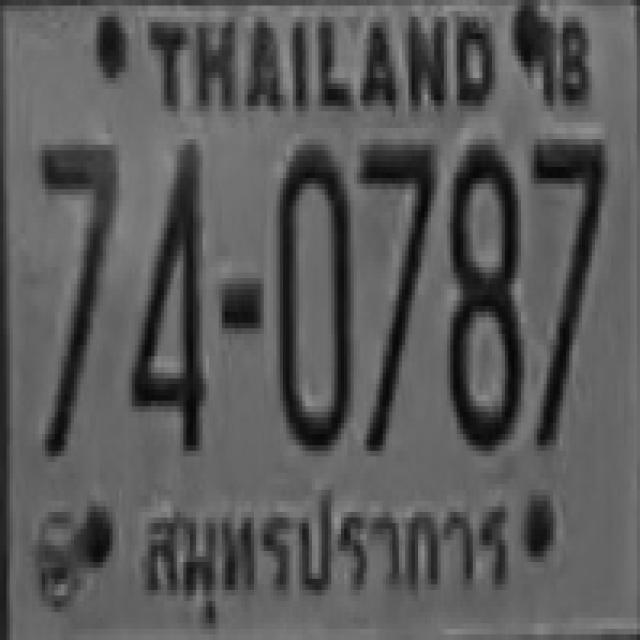0: (275, 139, 349, 445)
4: (128, 136, 202, 448)
7: (37, 139, 114, 451), (528, 134, 604, 445), (358, 139, 432, 445), (37, 139, 114, 367), (358, 139, 432, 373)
8: (446, 139, 520, 445)
SamutPrakan: (132, 478, 516, 614)
